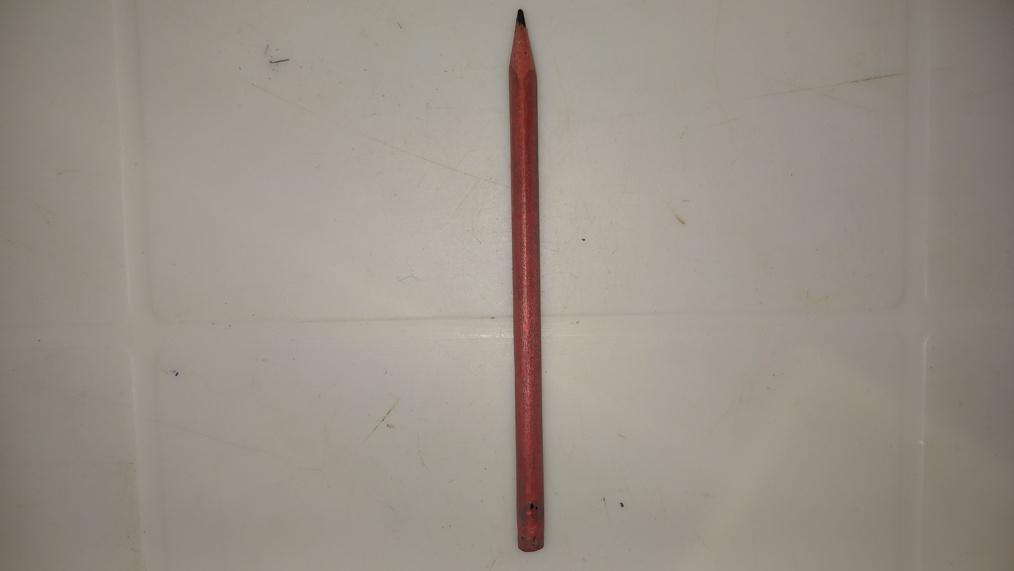Pencil: (508, 2, 544, 555)
